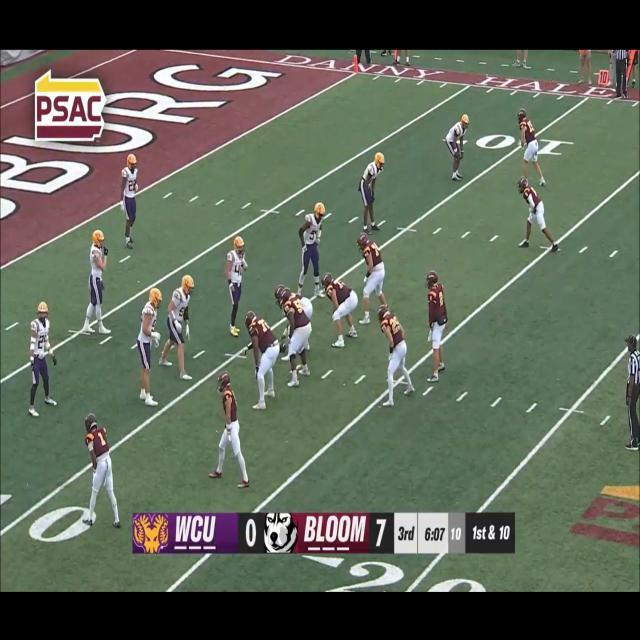football: (276, 334, 290, 356)
